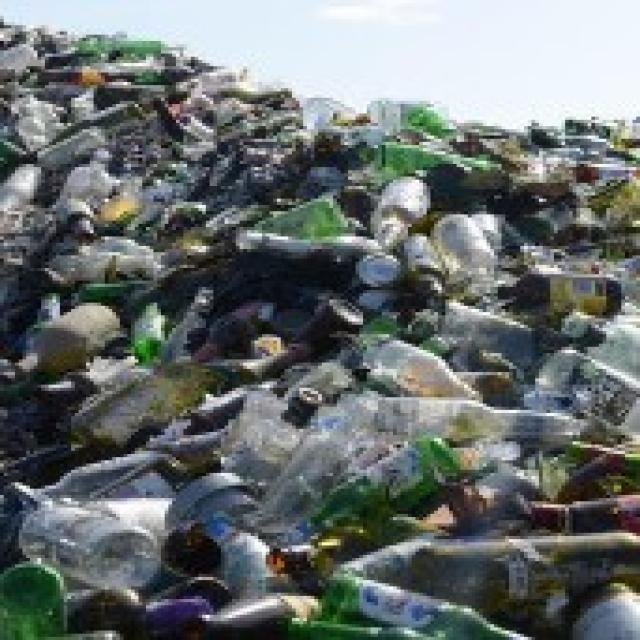electronic: (0, 432, 536, 640)
